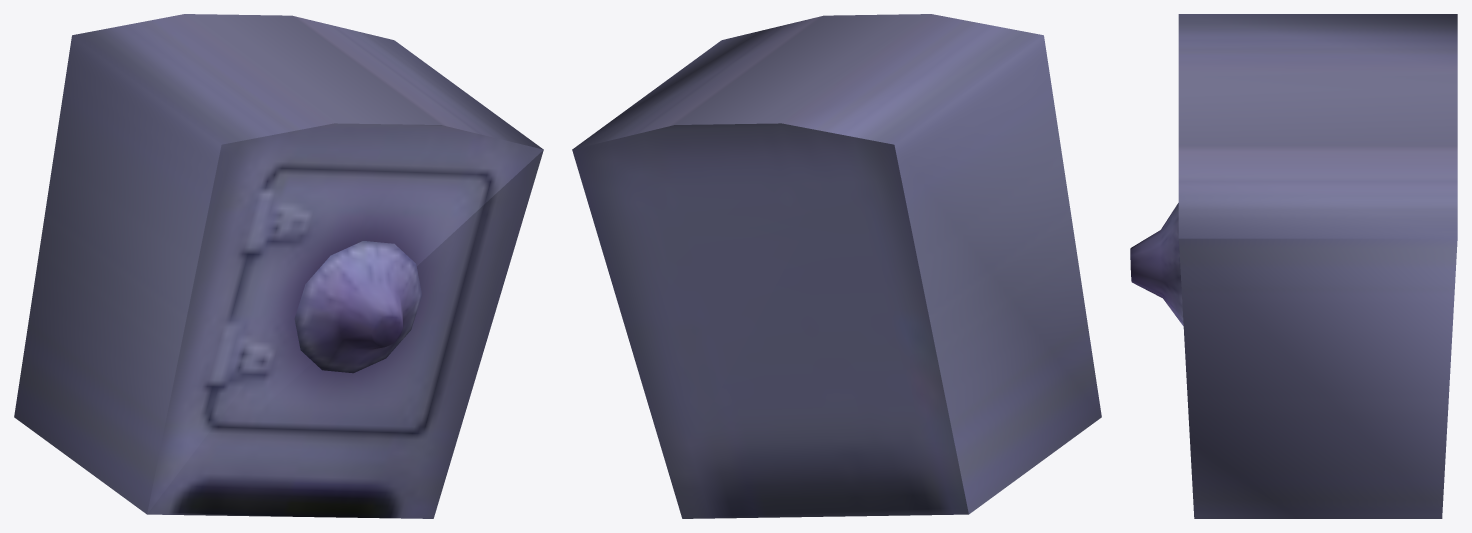
File: vault_safe.glb
3 renders of one model, left to right at view 1: azimuth 30°, elevation 25°; view 2: azimuth 150°, elevation 25°; view 3: azimuth 270°, elevation 25°, orthographic. The views are drawn at different scales.
Visible parts, largest first — view 1: safe_box, safe_dial; view 2: safe_box; view 3: safe_box, safe_dial.
Boxes of the visible parts, x1,y1,x2,y2 form: safe_box: (14, 14, 543, 518); safe_dial: (294, 241, 422, 373); safe_box: (572, 14, 1101, 518); safe_box: (1178, 14, 1457, 518); safe_dial: (1130, 203, 1183, 325).
Size of the model in its own units: 3.51 by 3.75 by 2.75.
Materials: 2 (2 with a texture image).
